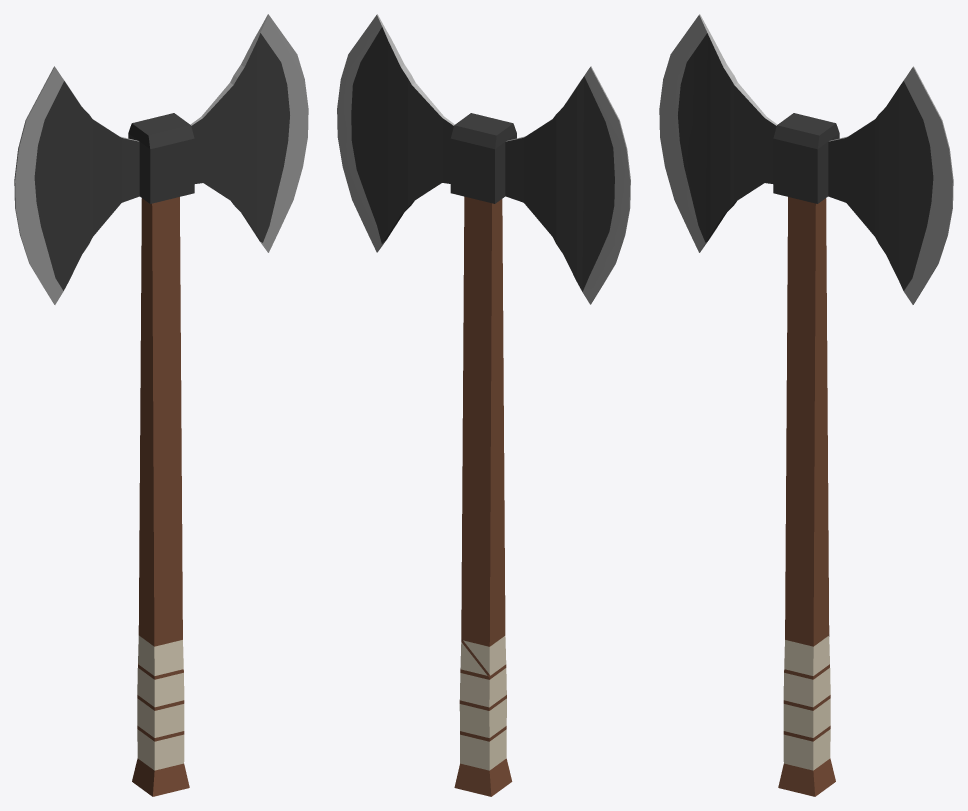
Rendered from War_Axe.fbx.
3 renders of one model, left to right at view 1: azimuth 30°, elevation 25°; view 2: azimuth 150°, elevation 25°; view 3: azimuth 330°, elevation 25°, orthographic.
Visible parts, largest first — view 1: War Axe; view 2: War Axe; view 3: War Axe.
Part boxes in pixels (x1,y1,x2,y2): War Axe: [14, 14, 308, 796]; War Axe: [337, 14, 630, 796]; War Axe: [659, 14, 953, 796].
Bounding box in the file's own units: 1.25 × 3.03 × 0.1623.
